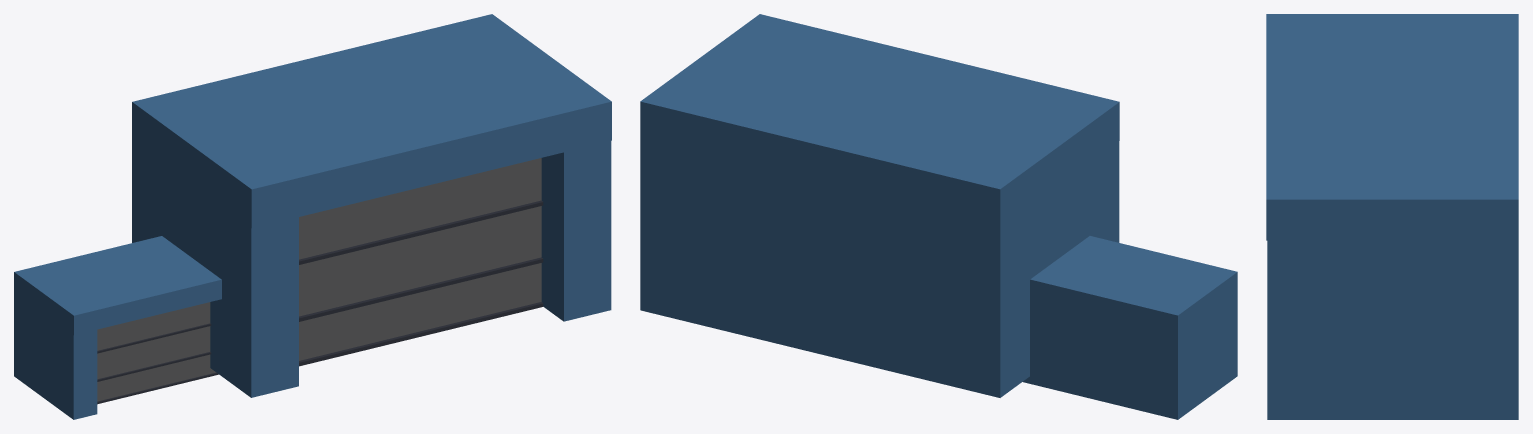
Rendered from Fuse_Machine.glb.
The picture shows the model from 3 angles, left to right: view 1: azimuth 30°, elevation 25°; view 2: azimuth 150°, elevation 25°; view 3: azimuth 270°, elevation 25°; orthographic projection. The views are drawn at different scales.
Parts seen in each view (by area): view 1: Cube copy copy copy copy, Cube, Cube copy (×3), Cube copy copy (×3), Cube copy copy copy copy copy, Cube copy copy copy; view 2: Cube copy copy copy copy (×2), Cube copy copy copy, Cube copy, Cube copy copy (×2), Cube copy copy copy copy copy; view 3: Cube copy copy copy copy, Cube copy copy.
Part boxes in pixels (x1,y1,x2,y2): Cube copy copy copy copy: (132, 14, 611, 228); Cube: (299, 158, 541, 360); Cube copy (×3): (97, 141, 543, 401); Cube copy copy (×3): (14, 141, 611, 419); Cube copy copy copy copy copy: (14, 236, 221, 334); Cube copy copy copy: (299, 200, 543, 264); Cube copy copy copy copy (×2): (640, 14, 1177, 419); Cube copy copy copy: (640, 140, 1000, 397); Cube copy: (952, 141, 1119, 397); Cube copy copy (×2): (640, 140, 1237, 419); Cube copy copy copy copy copy: (1030, 236, 1237, 334); Cube copy copy copy copy: (1266, 14, 1518, 240); Cube copy copy: (1267, 240, 1518, 419).
Size of the model in its own units: 7.48 by 3.04 by 3.05.
